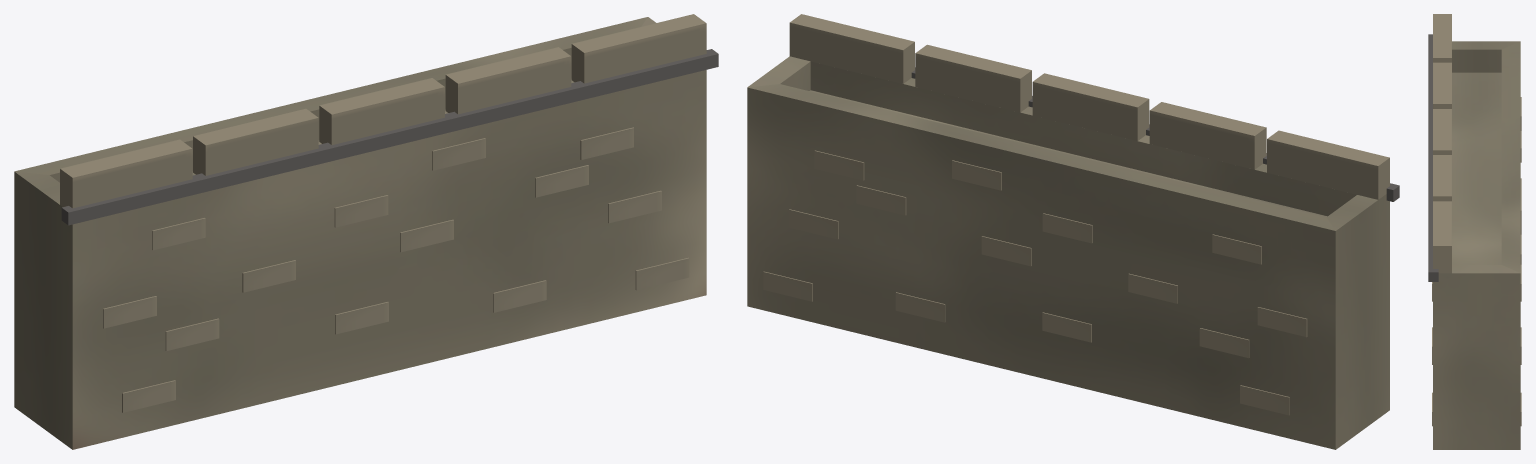
Rendered from citywall.obj.
3 views of the same model, side by side, from view 1: azimuth 30°, elevation 25°; view 2: azimuth 150°, elevation 25°; view 3: azimuth 270°, elevation 25° (orthographic). The views are drawn at different scales.
Visible parts, largest first — view 1: citywall; view 2: citywall; view 3: citywall.
Part boxes in pixels (x1,y1,x2,y2): citywall: (14,14,718,449); citywall: (747,14,1399,449); citywall: (1428,14,1521,449).
Bounding box in the file's own units: 20.09 × 8.03 × 3.33.
